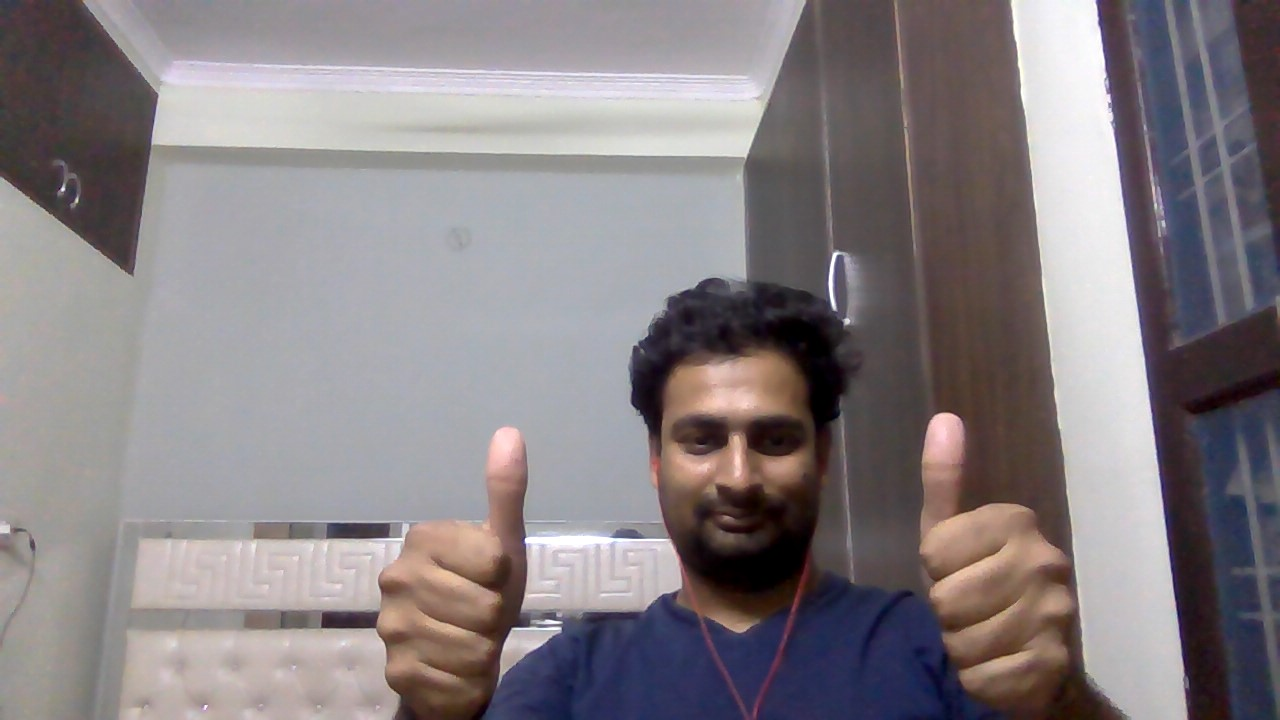Save: (907, 407, 1115, 715), (369, 407, 540, 720)
